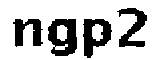2: (114, 5, 147, 51)
g: (47, 17, 79, 60)
n: (7, 15, 44, 52)
p: (82, 15, 113, 60)
